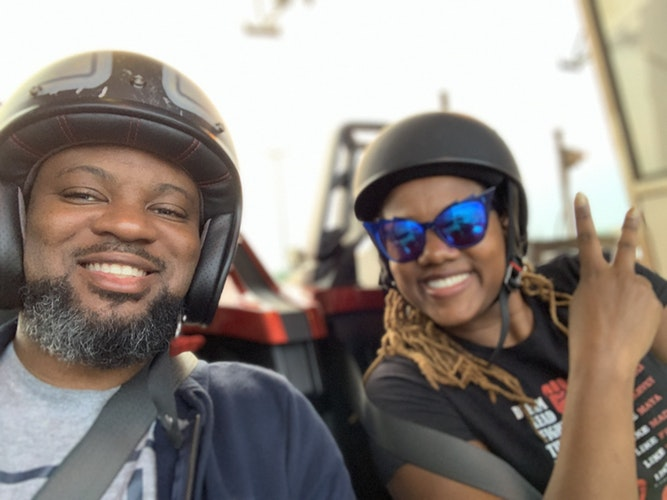helmet: (12, 45, 257, 297), (348, 109, 522, 210)
